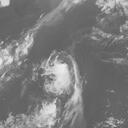cyclone: (40, 56, 74, 97)
